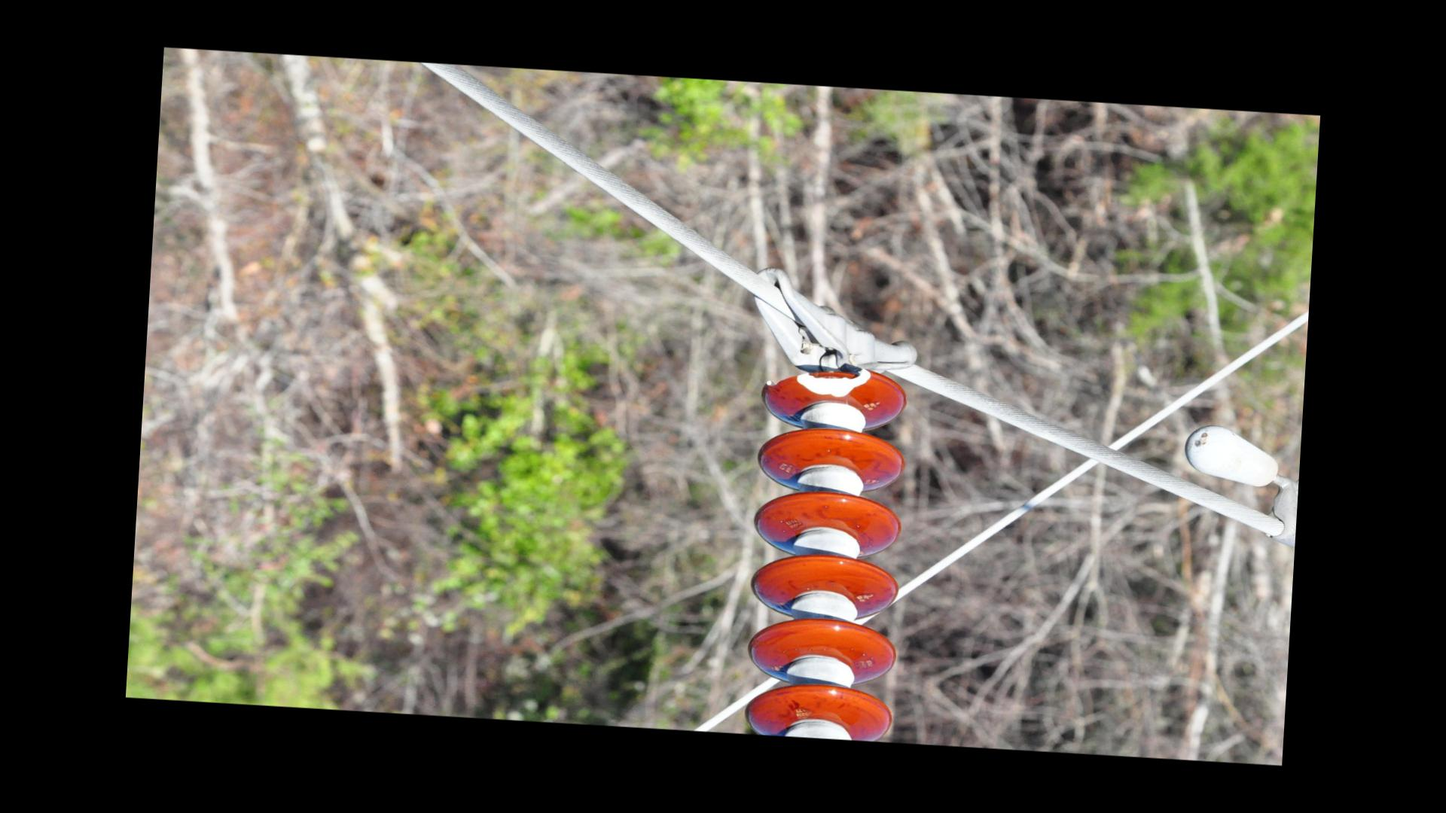damper: (1170, 415, 1301, 557)
